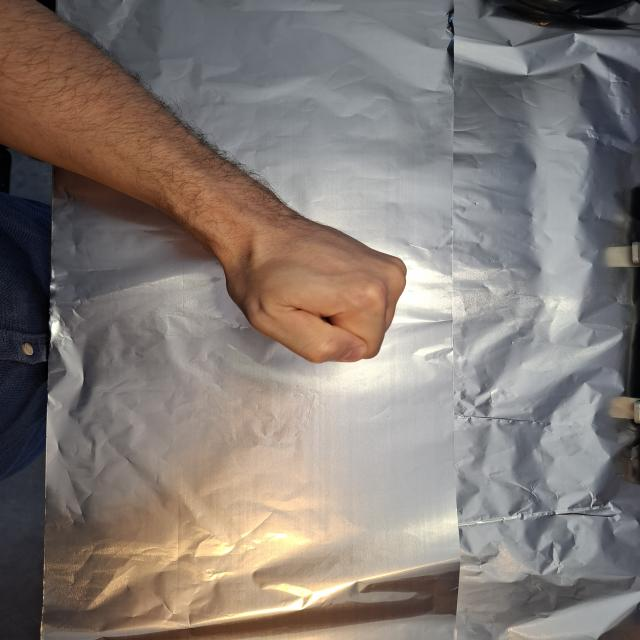glove_off: (195, 206, 410, 366)
